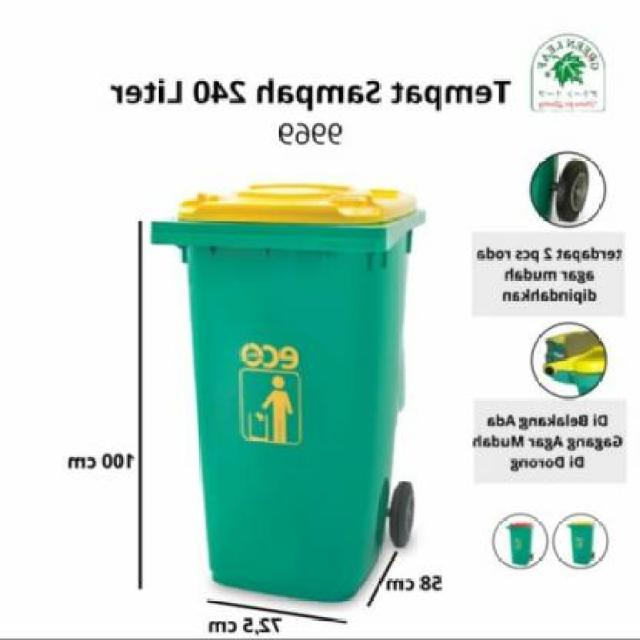garbage container: (150, 180, 432, 605)
